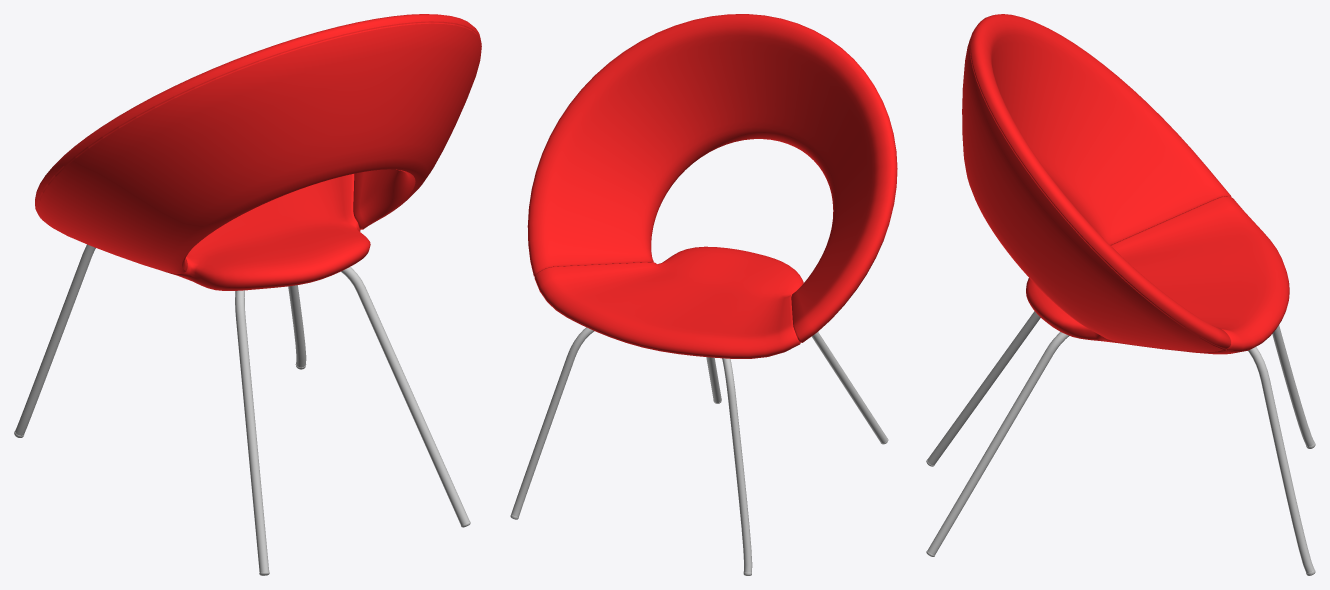
3 renders of one model, left to right at view 1: azimuth 30°, elevation 25°; view 2: azimuth 150°, elevation 25°; view 3: azimuth 270°, elevation 25°, orthographic. The views are drawn at different scales.
Visible parts, largest first — view 1: Object003_02 - Default_0, Object003_01 - Default_0; view 2: Object003_02 - Default_0, Object003_01 - Default_0; view 3: Object003_02 - Default_0, Object003_01 - Default_0.
Boxes of the visible parts, x1=… form: Object003_02 - Default_0: x1=35, y1=14, x2=481, y2=290; Object003_01 - Default_0: x1=14, y1=244, x2=470, y2=575; Object003_02 - Default_0: x1=527, y1=14, x2=897, y2=358; Object003_01 - Default_0: x1=510, y1=327, x2=888, y2=575; Object003_02 - Default_0: x1=962, y1=14, x2=1289, y2=354; Object003_01 - Default_0: x1=926, y1=311, x2=1315, y2=575.
Size of the model in its own units: 226 by 267 by 200.
